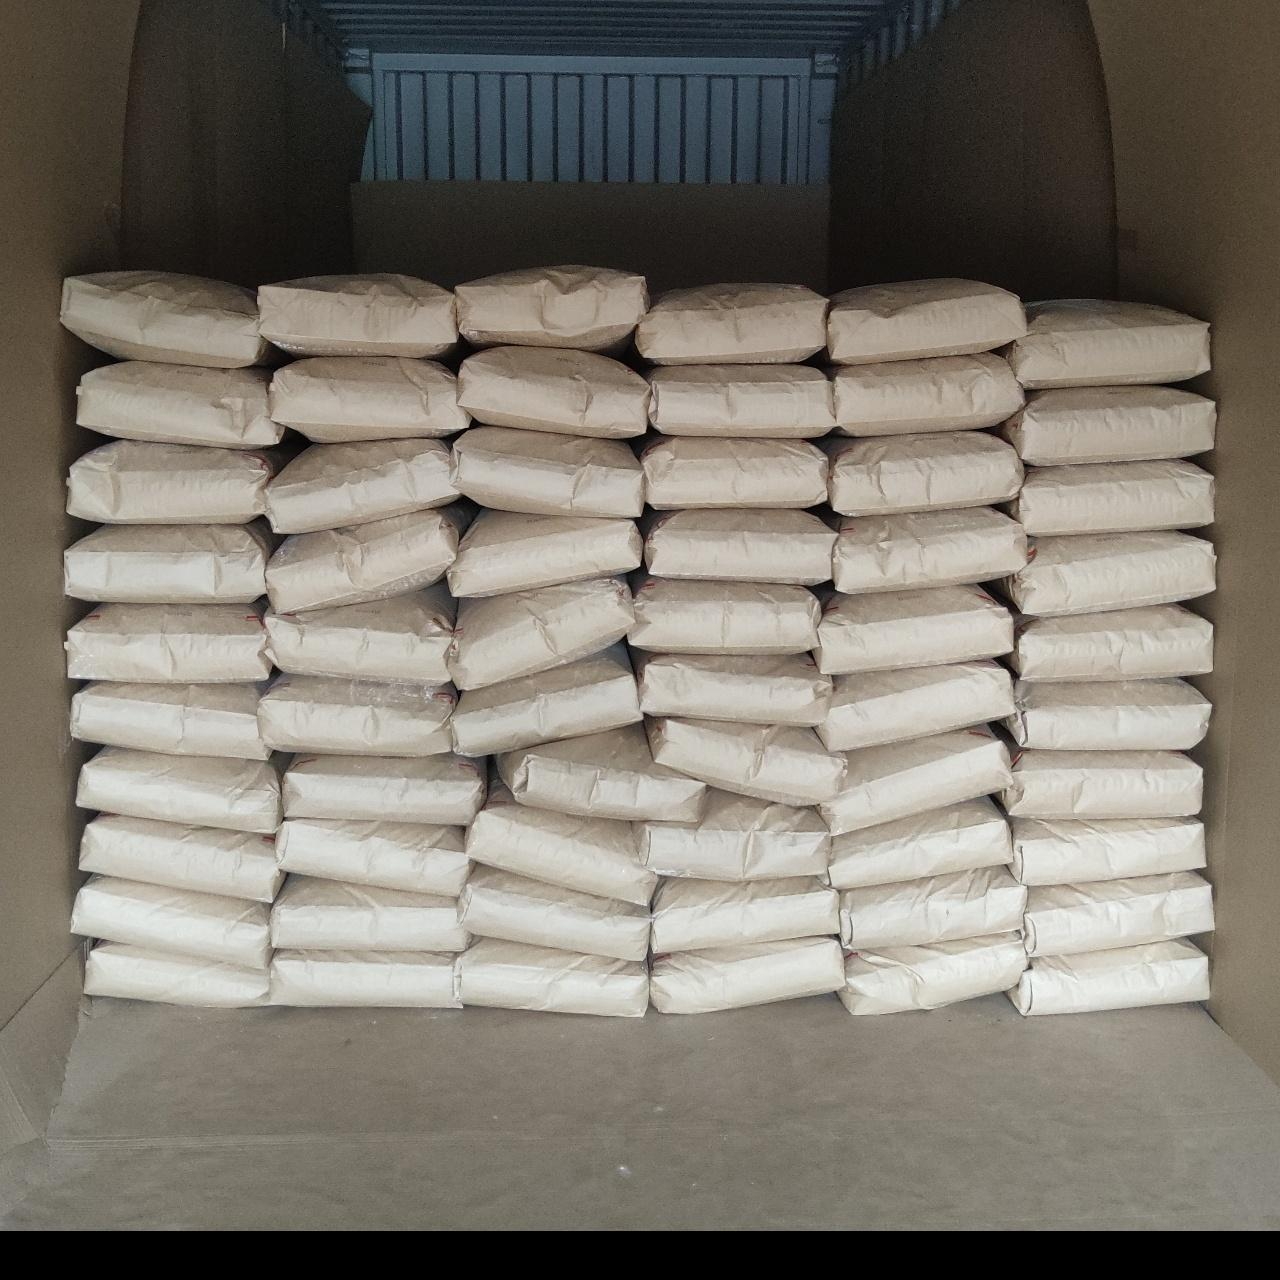sack: (468, 787, 654, 903), (270, 504, 470, 610), (452, 644, 640, 754), (498, 726, 702, 822), (62, 272, 270, 366), (822, 728, 1010, 830), (454, 578, 629, 686), (266, 584, 454, 682), (266, 440, 458, 532), (74, 876, 270, 966), (68, 442, 290, 522), (1006, 300, 1206, 388), (79, 362, 288, 445), (459, 866, 648, 958), (816, 586, 1012, 674), (818, 662, 1014, 750), (80, 816, 280, 900), (636, 790, 828, 878), (648, 719, 844, 804), (1005, 535, 1214, 614), (456, 428, 642, 516), (459, 348, 646, 436), (79, 748, 278, 830), (452, 510, 640, 595), (456, 266, 646, 350), (270, 358, 468, 438), (828, 433, 1022, 515), (828, 280, 1022, 362), (66, 524, 274, 600), (260, 274, 454, 356), (835, 508, 1028, 590), (828, 798, 1008, 886), (1024, 872, 1212, 956), (1002, 388, 1214, 462), (832, 354, 1022, 436), (1008, 459, 1212, 535), (638, 284, 828, 362), (260, 676, 454, 753), (72, 685, 270, 758), (840, 869, 1022, 948), (1010, 940, 1206, 1014), (68, 606, 270, 678), (632, 576, 821, 652), (1012, 606, 1212, 678), (842, 937, 1026, 1014), (638, 652, 830, 726), (278, 821, 470, 894), (652, 938, 842, 1012), (272, 878, 468, 949), (644, 510, 835, 583), (1006, 680, 1210, 748), (458, 940, 646, 1014), (652, 878, 838, 949), (284, 756, 486, 822), (642, 436, 828, 508), (648, 365, 832, 436), (1000, 750, 1201, 813), (1012, 818, 1204, 884), (86, 942, 268, 1006), (272, 952, 459, 1006)
